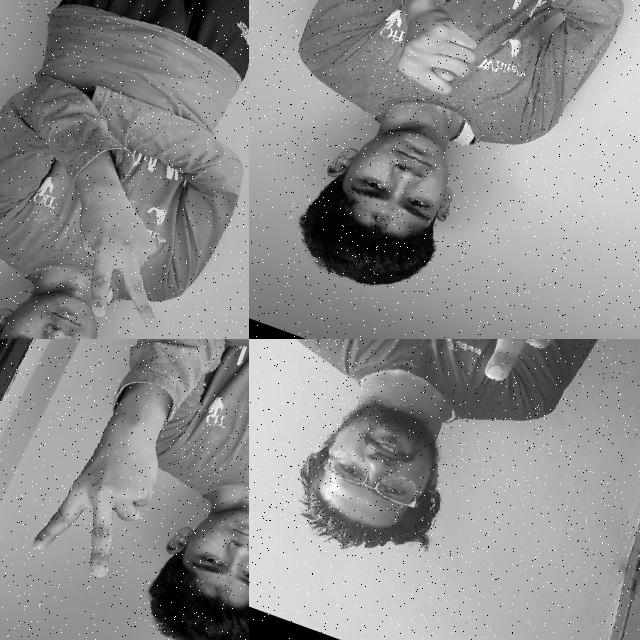Dulya: (380, 0, 502, 112)
Middle Finger: (427, 339, 587, 406)
Reversed Victory: (18, 380, 184, 590), (47, 165, 205, 339)
